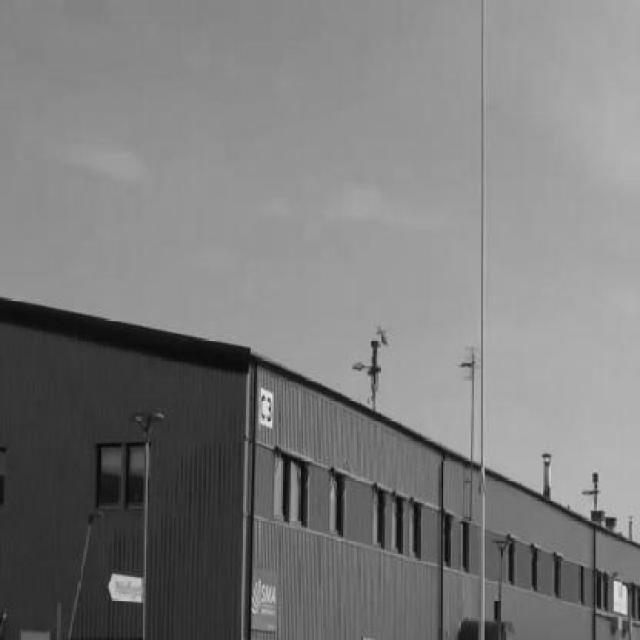helikopter: (373, 312, 395, 356)
